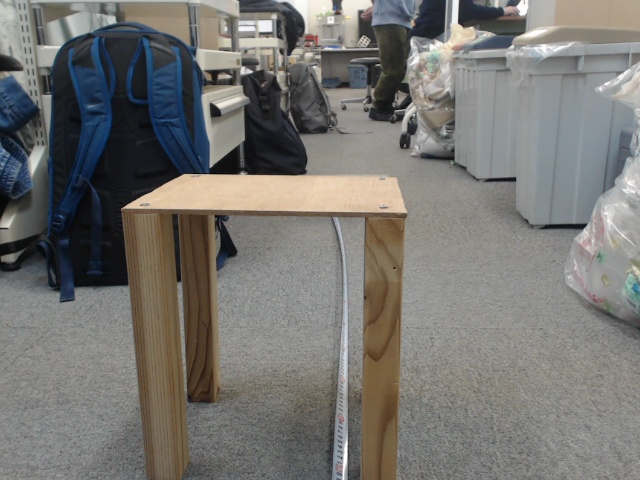desk: (264, 139, 488, 387)
